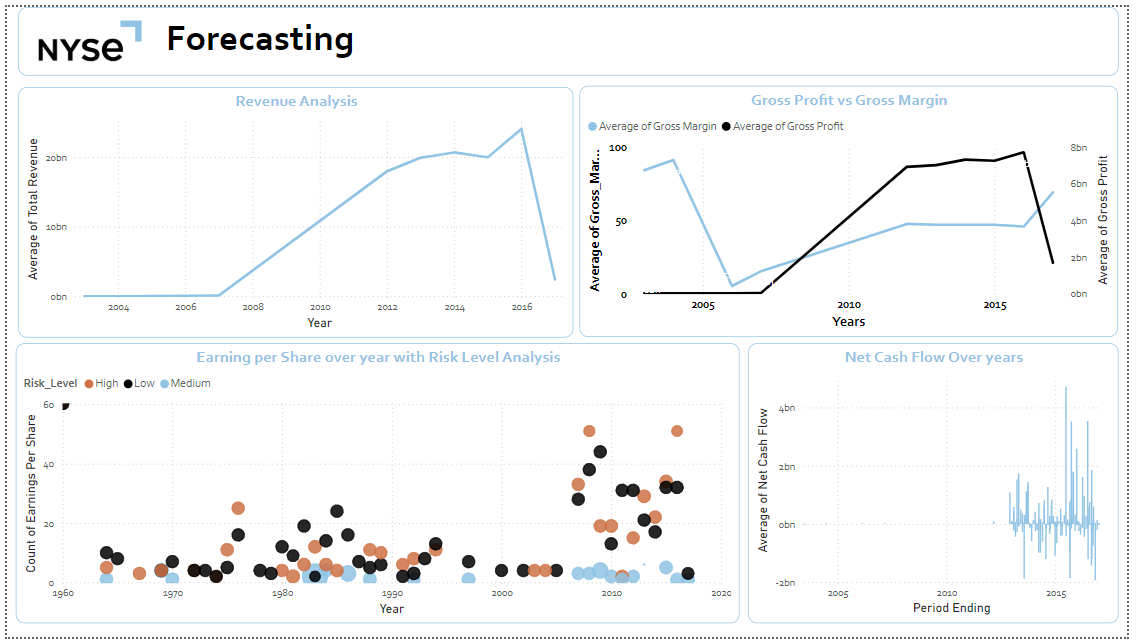

What the dashboard file says about the page in this screenshot:
{"tool":"powerbi","page":{"name":"Forecasting","canvas":[1280,720],"ordinal":3},"visuals":[{"type":"group","id":"g1","title":"Group 1","box":[12.5,0,1257.5,78.8],"z":0},{"type":"lineStackedColumnComboChart","title":"Net Cash Flow Over years","fields":{"Y":["Avg(cleaned_fundamentals.Net Cash Flow)"],"Category":["cleaned_fundamentals.Period Ending"]},"box":[847.1,384.3,422.9,320],"z":1000},{"type":"lineChart","title":"Gross Profit vs Gross Margin","fields":{"Category":["cleaned_fundamentals.Period Ending.Variation.Date Hierarchy.Year"],"Y2":["Avg(cleaned_fundamentals.Gross Profit)"],"Y":["Avg(cleaned_fundamentals.Gross Margin)"]},"box":[654.2,90.5,615.1,287.4],"z":2000},{"type":"scatterChart","title":"Earning per Share over year with Risk Level Analysis","fields":{"Size":["Avg(fundamentals_with_risk_scores.Debt-to-Equity)"],"Series":["fundamentals_with_risk_scores.Risk_Level"],"X":["fundamentals_with_risk_scores.Date first added.Variation.Date Hierarchy.Year"],"Y":["Count(fundamentals_with_risk_scores.Earnings Per Share)"]},"box":[10,384.3,827.1,320],"z":3000},{"type":"textbox","box":[12.5,0,1257.5,78.8],"z":4000,"group":"g1"},{"type":"lineChart","title":"Revenue Analysis","fields":{"Category":["cleaned_fundamentals.Period Ending.Variation.Date Hierarchy.Year"],"Y":["Avg(cleaned_fundamentals.Total Revenue)"]},"box":[12.2,91.7,634.7,286.1],"z":4000},{"type":"image","box":[30.6,4.9,127.2,68.5],"z":8000,"group":"g1"}]}

Visuals, with their boxes in screenshot pixels (x1, y1, x2, y2), scaled from the page's 1280x720 canvas onto the 1138x642 screenshot:
"Group 1" group: detection(11, 0, 1129, 70)
"Net Cash Flow Over years" lineStackedColumnComboChart: detection(753, 343, 1129, 628)
"Gross Profit vs Gross Margin" lineChart: detection(582, 81, 1128, 337)
"Earning per Share over year with Risk Level Analysis" scatterChart: detection(9, 343, 744, 628)
textbox: detection(11, 0, 1129, 70)
"Revenue Analysis" lineChart: detection(11, 82, 575, 337)
image: detection(27, 4, 140, 65)
